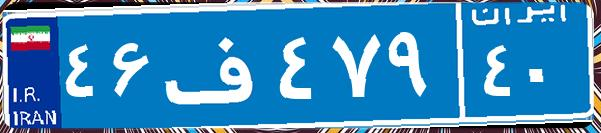0: (525, 38, 570, 115)
4: (273, 28, 330, 110), (57, 26, 110, 107), (475, 38, 525, 113)
6: (110, 28, 158, 105)
7: (330, 28, 385, 110)
9: (385, 28, 445, 110)
ف: (158, 15, 273, 115)
